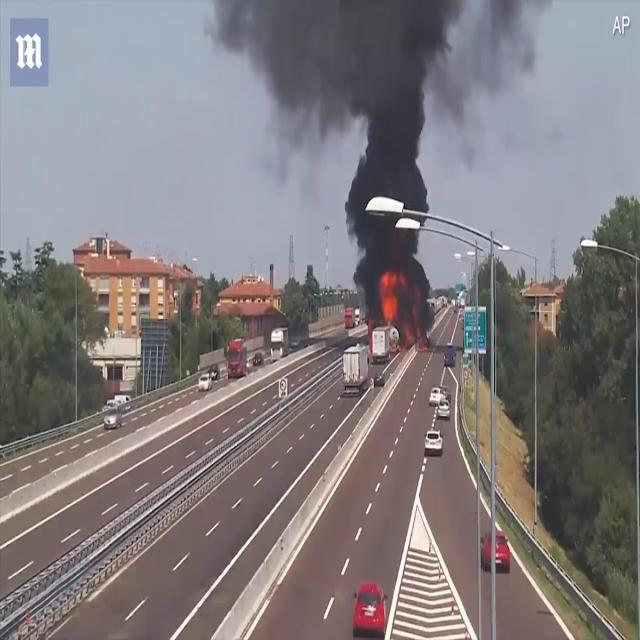Fire: (380, 272, 406, 324)
Smoke: (212, 0, 518, 331)
